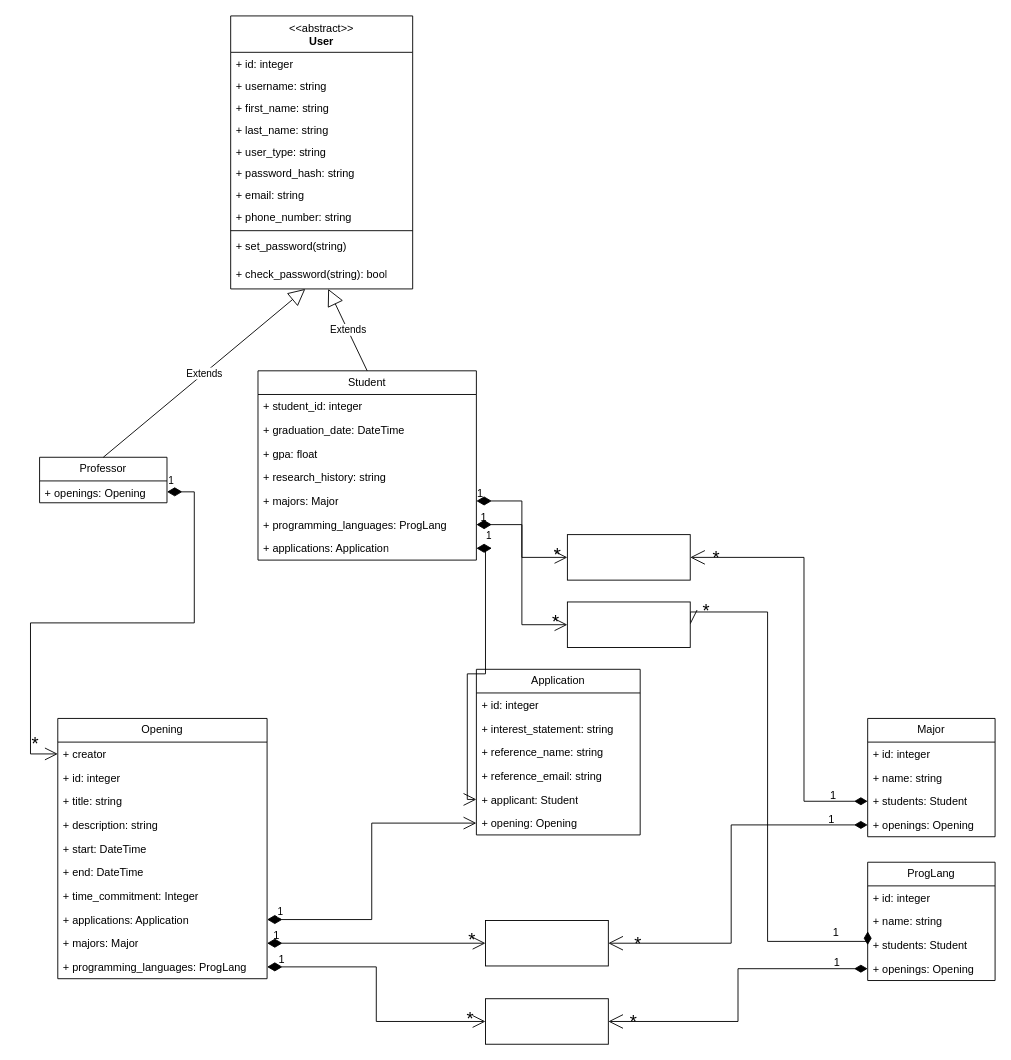
Image size: 1011x1060. Some labels were removed from this diagram. Here are the shapes that lost their labels. From the top down, the centre of each, then its label:
At point (628, 557): "majoring_in <<association table>>".
At point (628, 624): "knows_language <<association table>>".
At point (546, 943): "expects_major <<association table>>".
At point (546, 1021): "expects_language <<association table>>".
